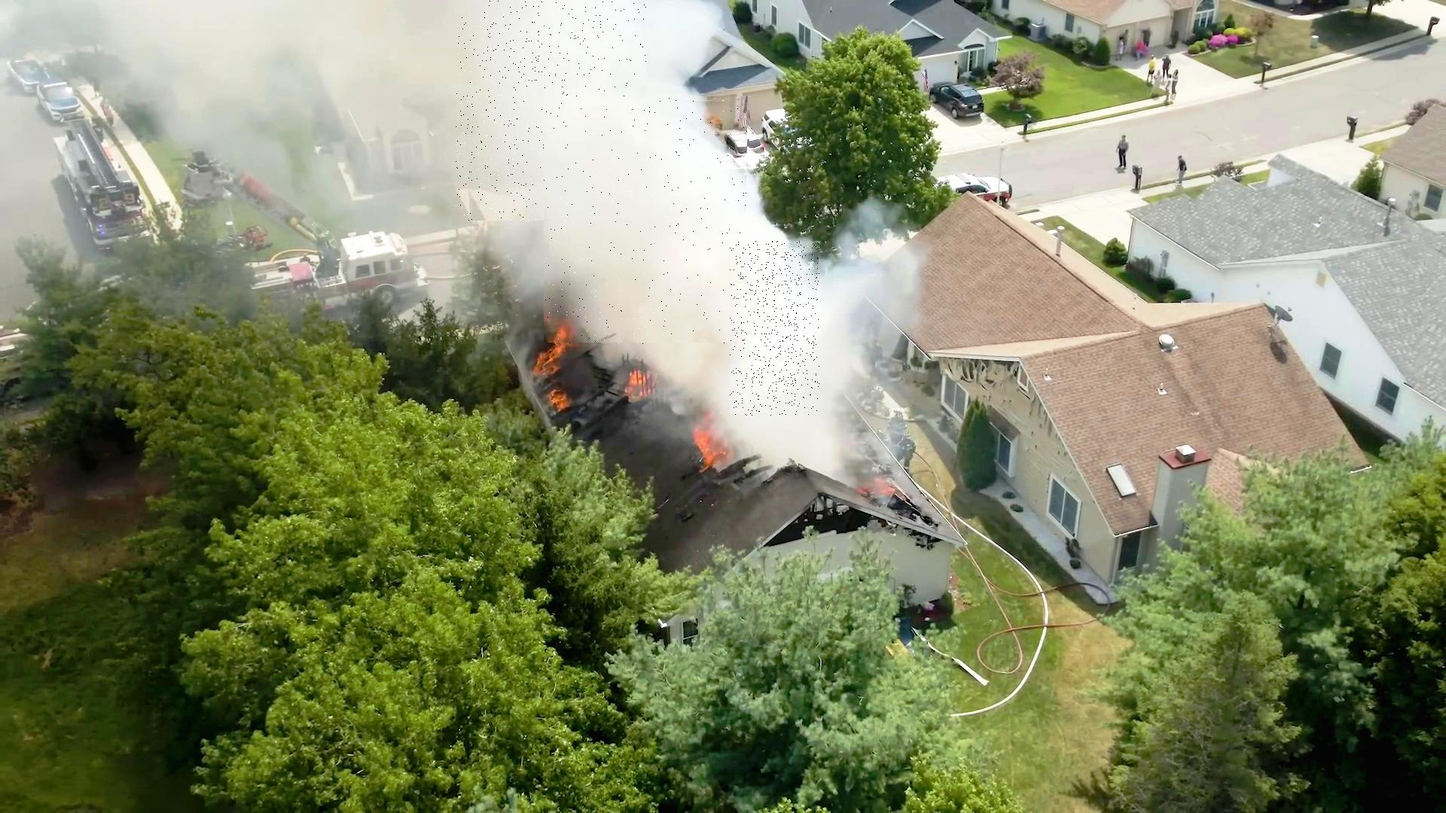smoke: (544, 97, 750, 345), (456, 0, 646, 221), (730, 241, 819, 416)
